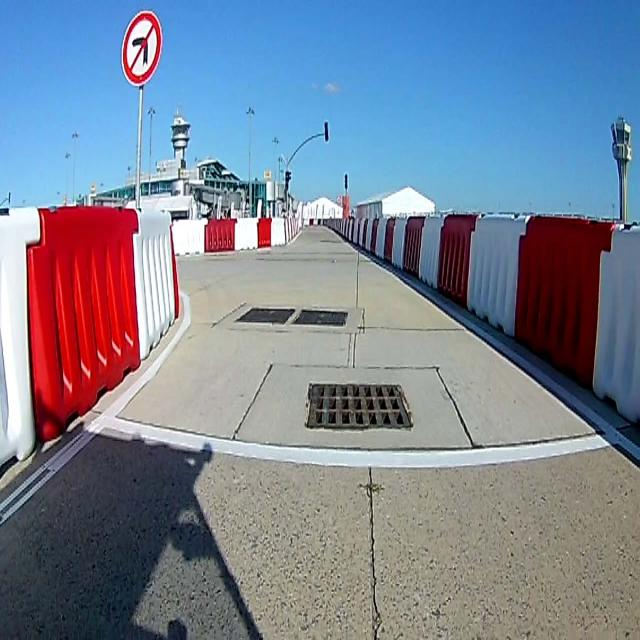soladonulmez: (121, 10, 163, 87)
